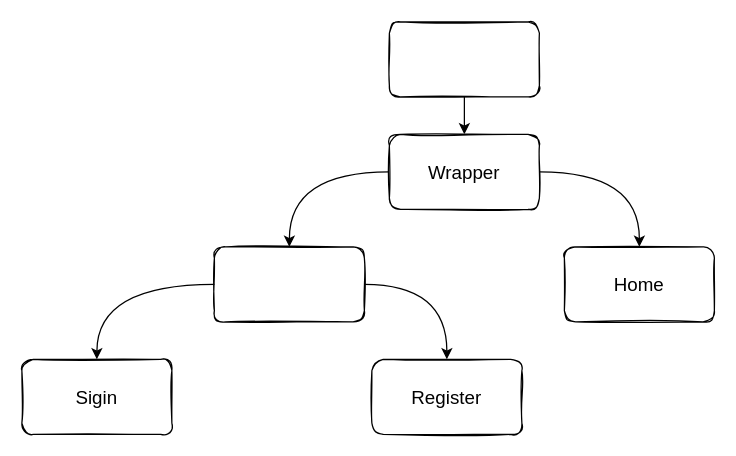
This 736x456 diagram has some shape labels left out. The shapes that lost their labels are listed below. From the top down, each one's box as (x1, y1, x2, y2) in pixels, then its label:
(388, 21, 539, 97): My App
(213, 246, 364, 322): Authenticate
